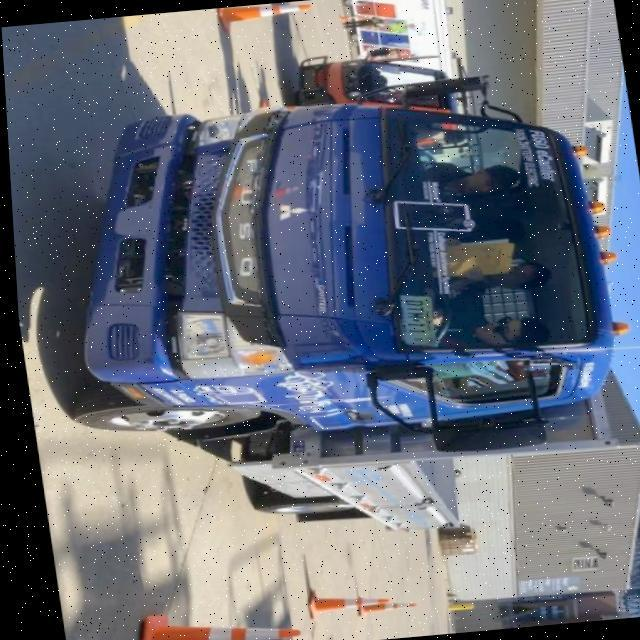truck: (25, 66, 640, 556)
